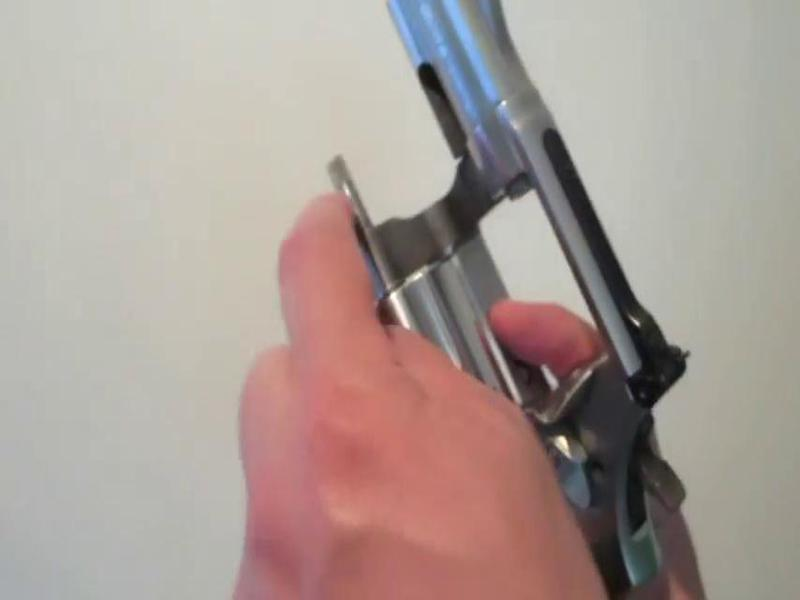Revolver: (296, 1, 686, 584)
